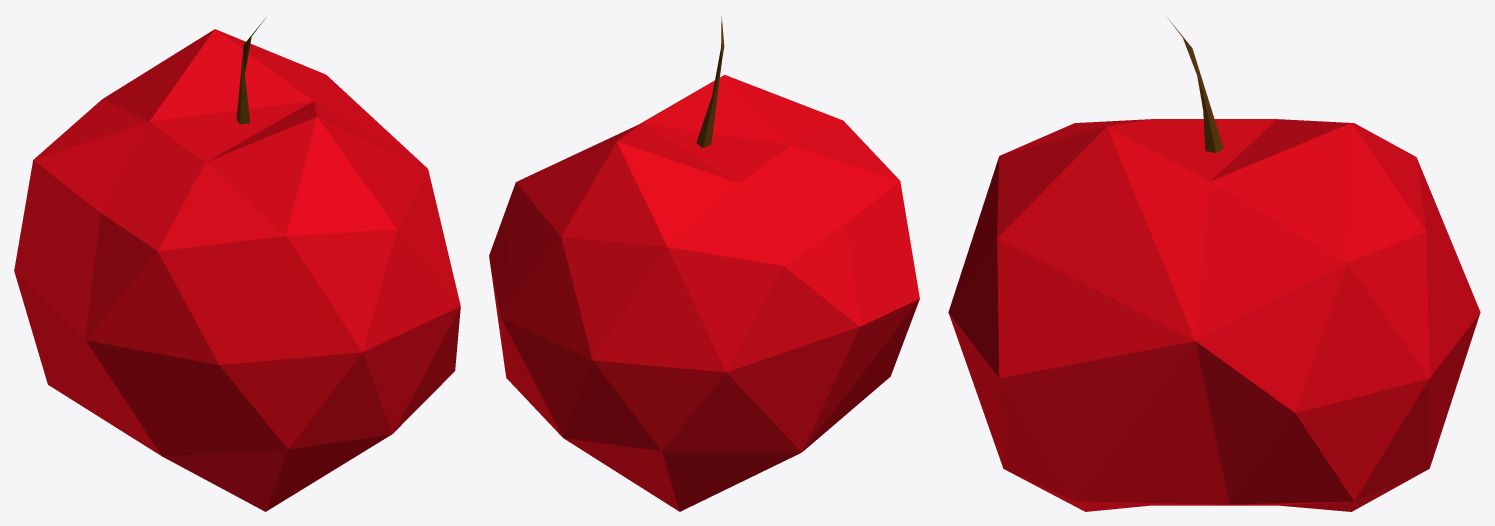
The model's file is Apple#1.fbx.
The picture shows the model from 3 angles, left to right: view 1: azimuth 30°, elevation 25°; view 2: azimuth 150°, elevation 25°; view 3: azimuth 270°, elevation 25°; orthographic projection. The views are drawn at different scales.
Parts seen in each view (by area): view 1: Apple#1; view 2: Apple#1; view 3: Apple#1.
Boxes of the visible parts, x1,y1,x2,y2 form: Apple#1: (14, 17, 460, 511); Apple#1: (489, 16, 919, 511); Apple#1: (948, 16, 1480, 511).
Bounding box in the file's own units: 12.89 × 14.53 × 13.5.
